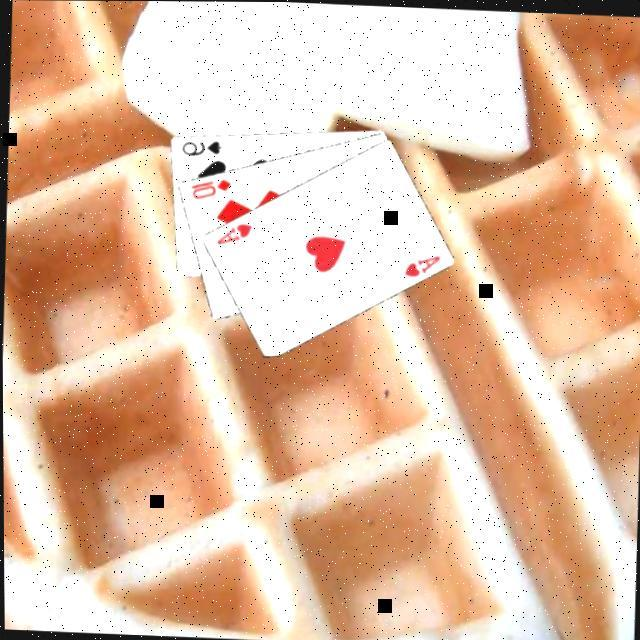10D: (186, 171, 233, 201)
9S: (178, 133, 225, 157)
AH: (400, 247, 443, 278), (213, 216, 255, 245)
